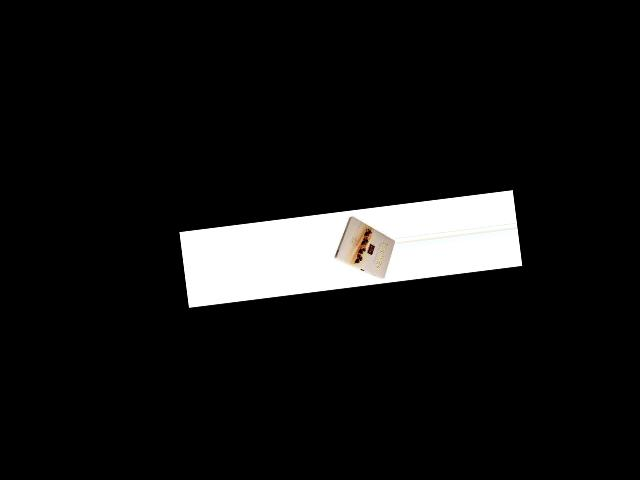chocolate: (327, 206, 398, 284)
